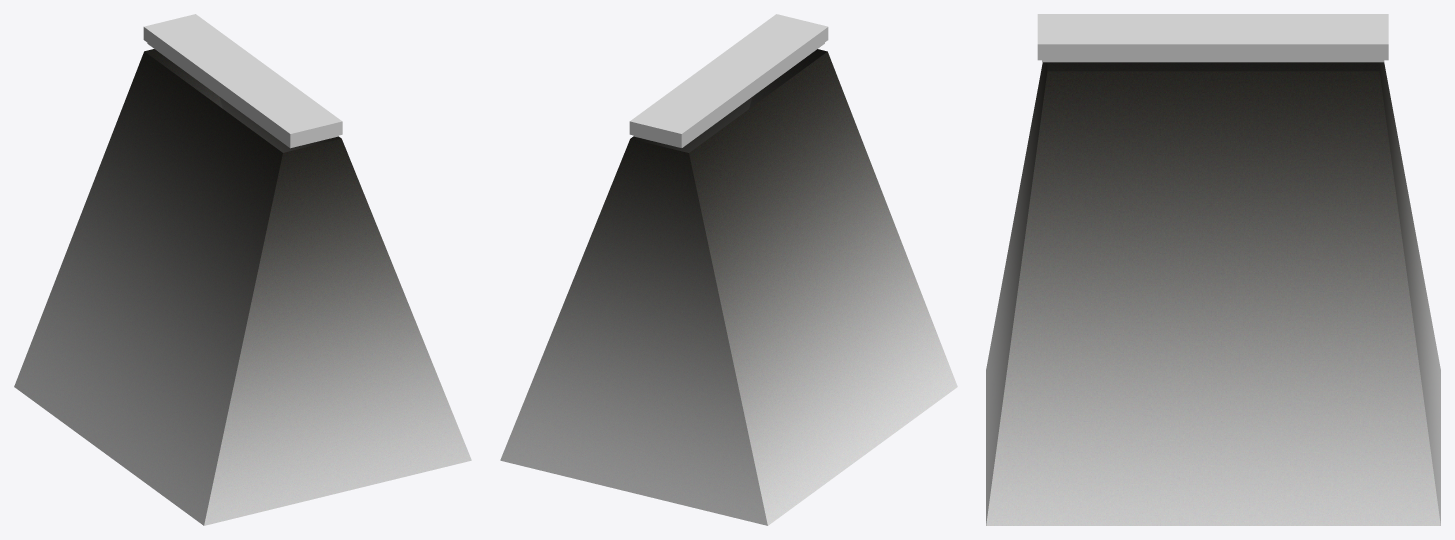
The model's file is luces.fbx.
3 views of the same model, side by side, from view 1: azimuth 30°, elevation 25°; view 2: azimuth 150°, elevation 25°; view 3: azimuth 270°, elevation 25° (orthographic). The views are drawn at different scales.
Parts seen in each view (by area): view 1: Cube.002, Cube.001; view 2: Cube.002, Cube.001; view 3: Cube.002, Cube.001, Cube.
Part boxes in pixels (left/top/right/bottom): Cube.002: left=14, top=49, right=471, bottom=525; Cube.001: left=143, top=14, right=342, bottom=147; Cube.002: left=500, top=49, right=957, bottom=525; Cube.001: left=629, top=14, right=828, bottom=147; Cube.002: left=986, top=62, right=1440, bottom=525; Cube.001: left=1037, top=14, right=1388, bottom=60; Cube: left=1042, top=60, right=1384, bottom=62.
Bounding box in the file's own units: 912 × 1138 × 1121.
Materials: 3 (1 with a texture image).
